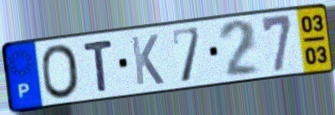2: (217, 17, 264, 81)
7: (260, 14, 295, 75), (172, 25, 202, 85)
K: (128, 33, 166, 88)
O: (39, 42, 82, 101)
T: (81, 37, 115, 94)
